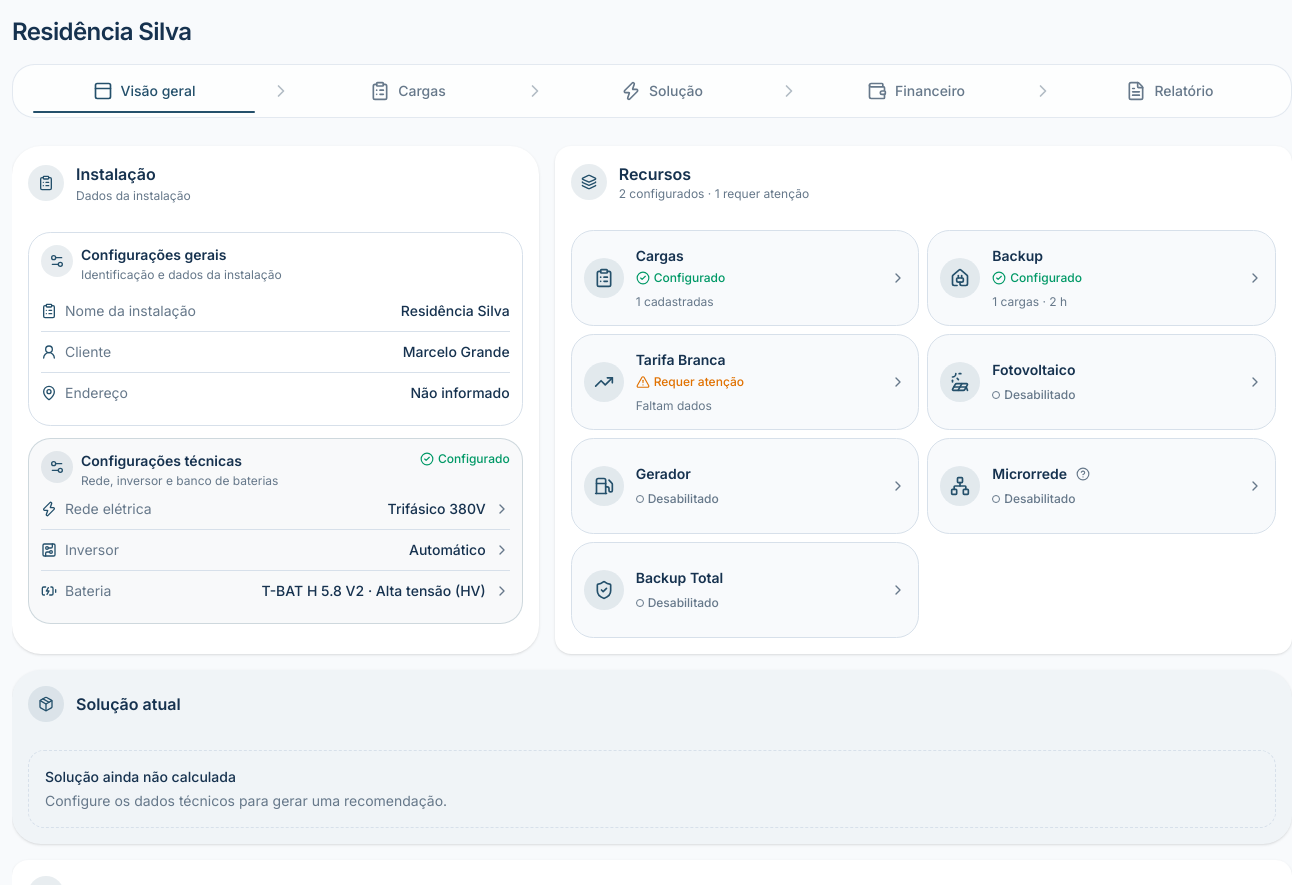
it: ProjectWorkspace › opens the battery selection screen from the technical summary row
Step 1. Click the button "Bateria T-BAT H 5.8 V2 · Alta tensão (HV)" → x=275, y=591, box [41, 571, 510, 611]
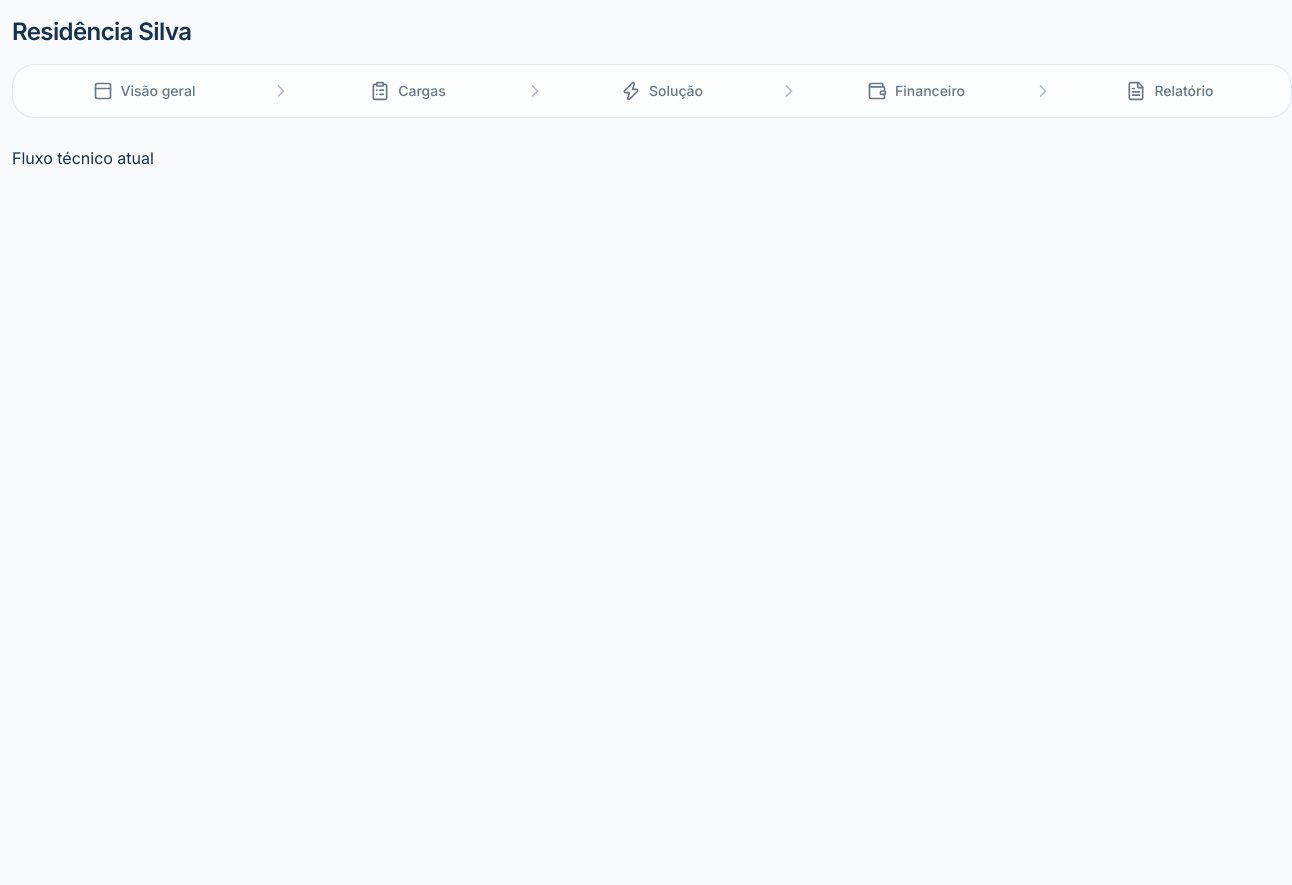
Now the text "Fluxo técnico atual" is shown, box [12, 148, 154, 168]
